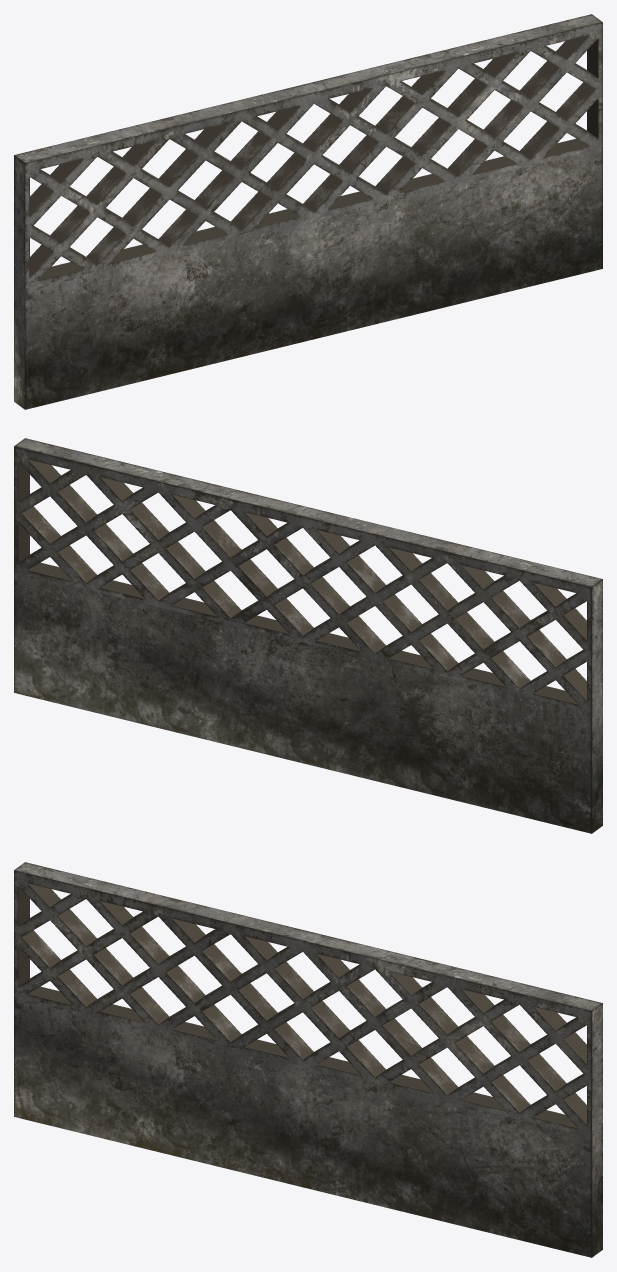
The model's file is Fence _2.fbx.
The picture shows the model from 3 angles, top to bottom: view 1: azimuth 30°, elevation 25°; view 2: azimuth 150°, elevation 25°; view 3: azimuth 330°, elevation 25°; orthographic projection.
Visible parts, largest first — view 1: Fence 2; view 2: Fence 2; view 3: Fence 2.
Boxes of the visible parts, x1,y1,x2,y2 form: Fence 2: (14, 14, 602, 409); Fence 2: (14, 438, 602, 833); Fence 2: (14, 862, 602, 1257).
Size of the model in its own units: 5991 by 2443 by 200.
Materials: 1 (1 with a texture image).
